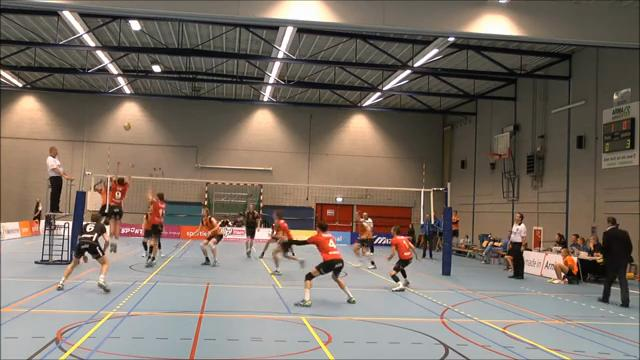attacco: (90, 170, 110, 233)
muro: (101, 154, 135, 255), (137, 182, 169, 269)
